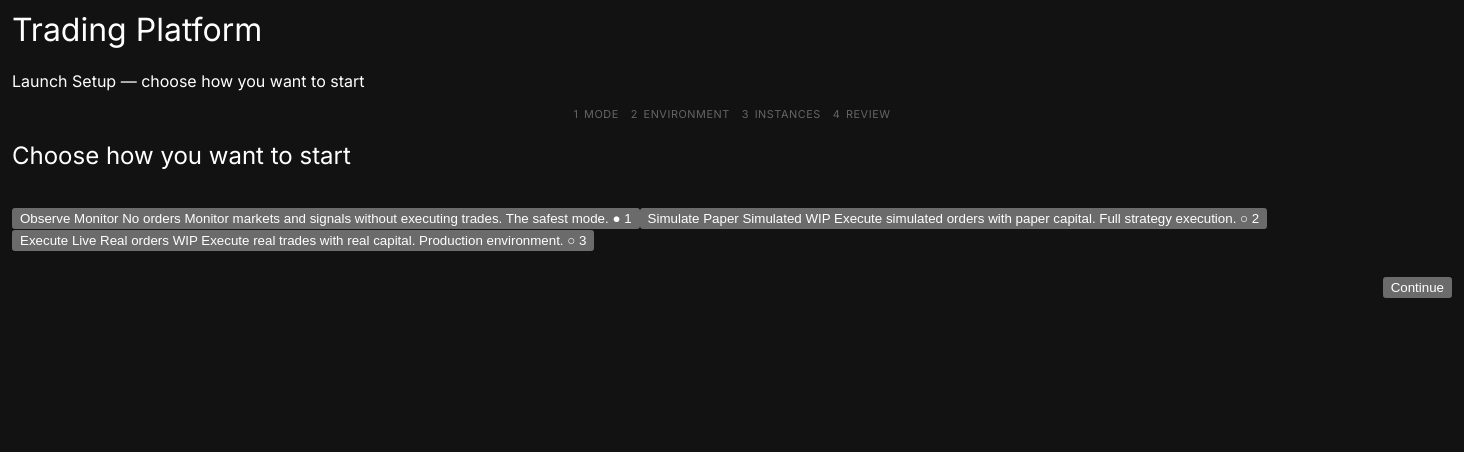
Launch Setup — instances step › review step lists the staged instances
Click the button "Continue": (1417, 287) [1383,277,1452,298]
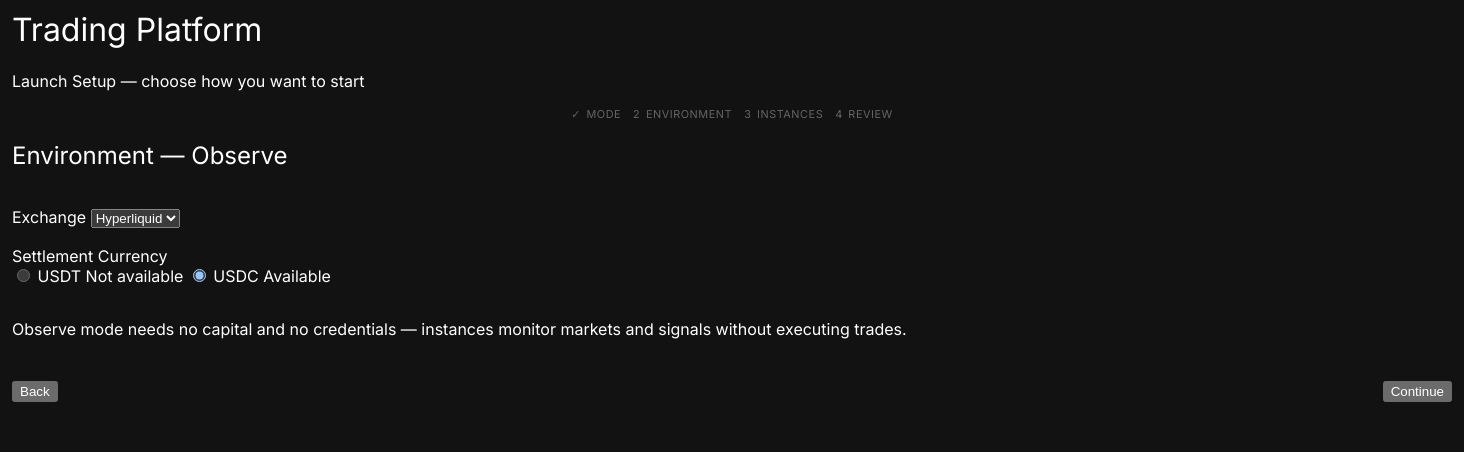
Click the button "Continue": (1417, 392) [1383,381,1452,402]
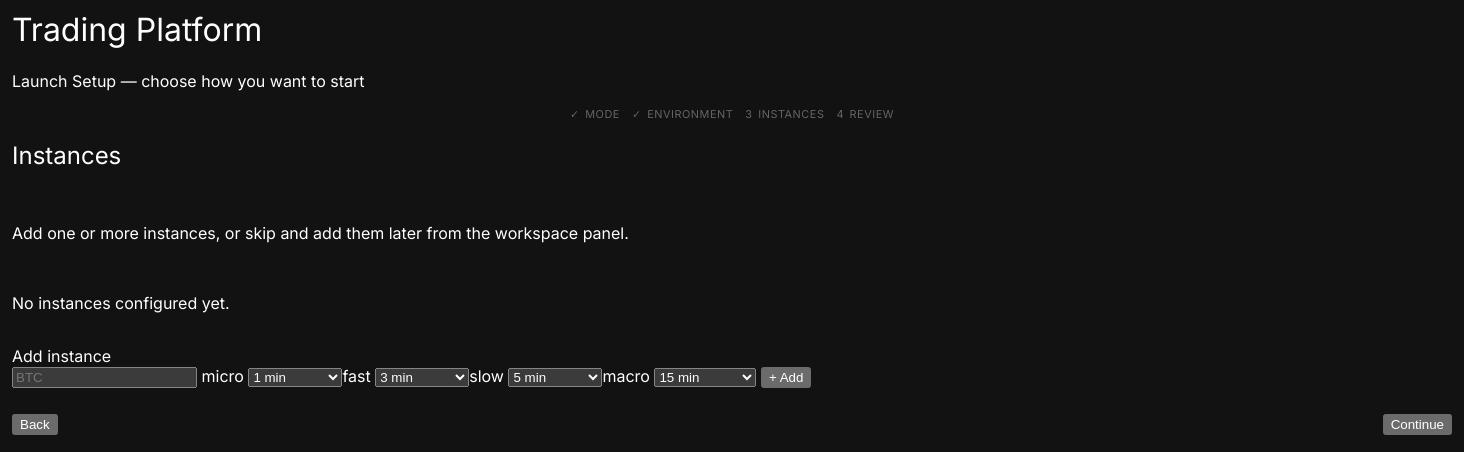
In the field with id "launch-base": (104, 378) [12,368,197,388], type "ETH"
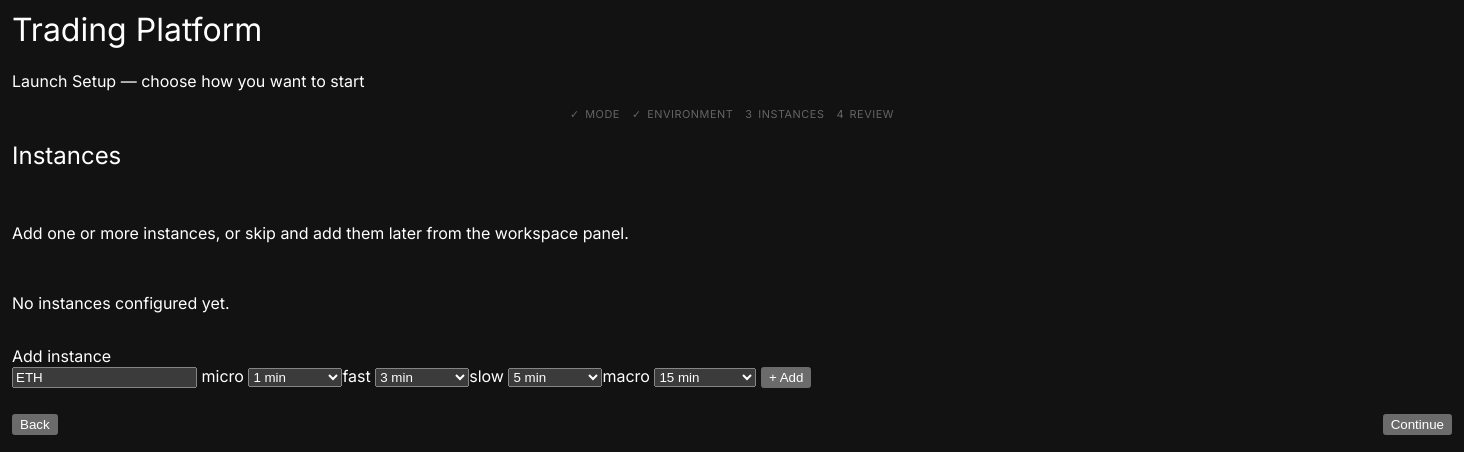
Click the button "+ Add": (786, 378) [761,368,812,388]
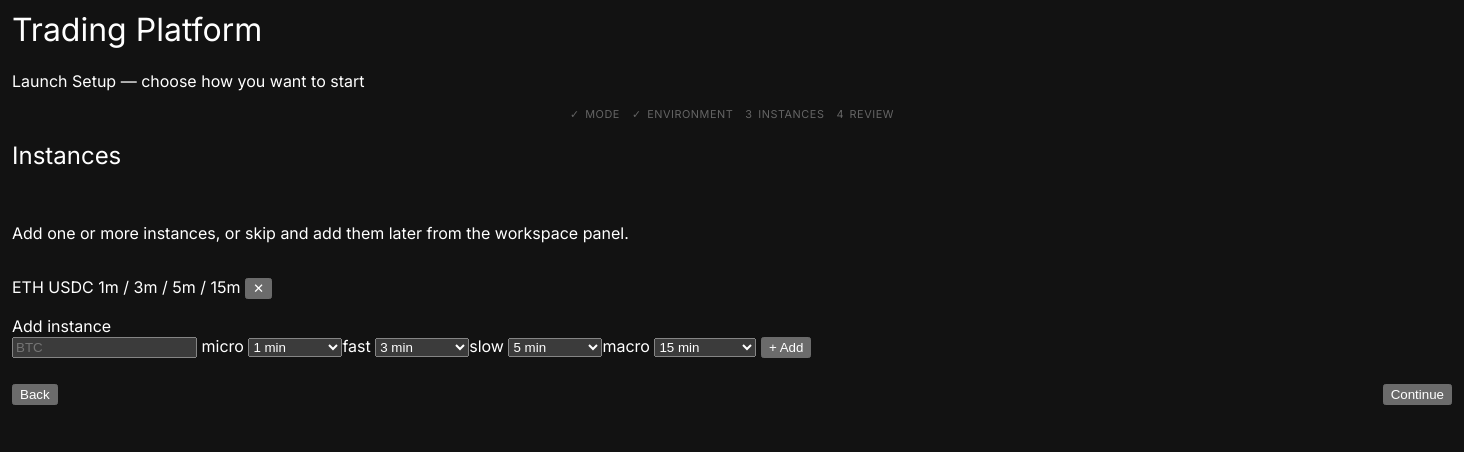
Click the button "Continue": (1417, 395) [1383,384,1452,405]
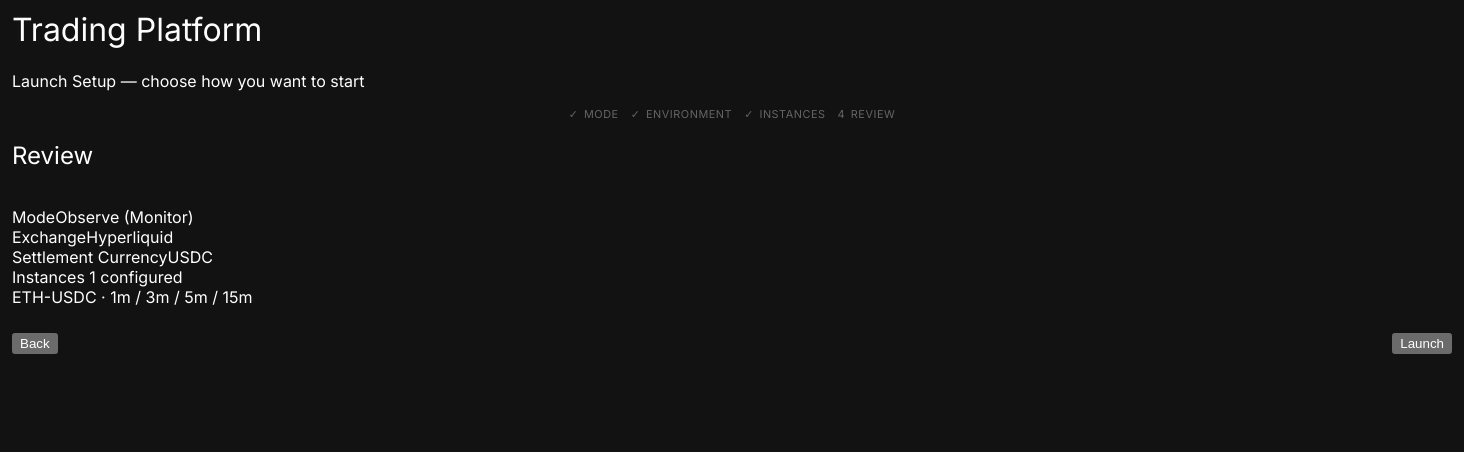
Expected: the text "Review" is shown, [851,107,895,121]
Expected: the text "1 configured" is shown, [89,267,183,287]
Expected: the text "ETH-USDC" is shown, [12,287,252,307]
